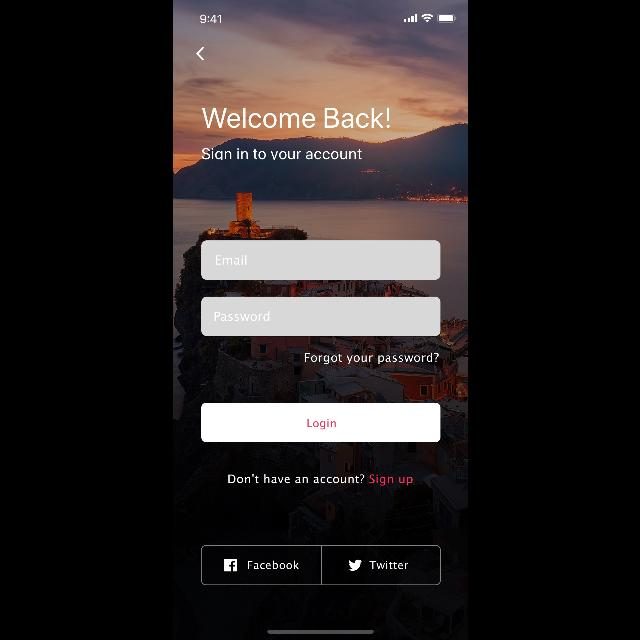backgroundimage: (172, 1, 468, 640)
icon: (195, 47, 202, 61)
input: (200, 240, 440, 280), (200, 296, 440, 336)
text: (201, 108, 389, 128), (228, 474, 412, 486), (201, 148, 361, 160), (304, 352, 438, 364), (214, 311, 268, 321), (216, 255, 247, 265)
textbutton: (200, 403, 440, 442), (200, 545, 322, 585), (320, 545, 440, 585)
uppertaskbar: (200, 14, 456, 24)
